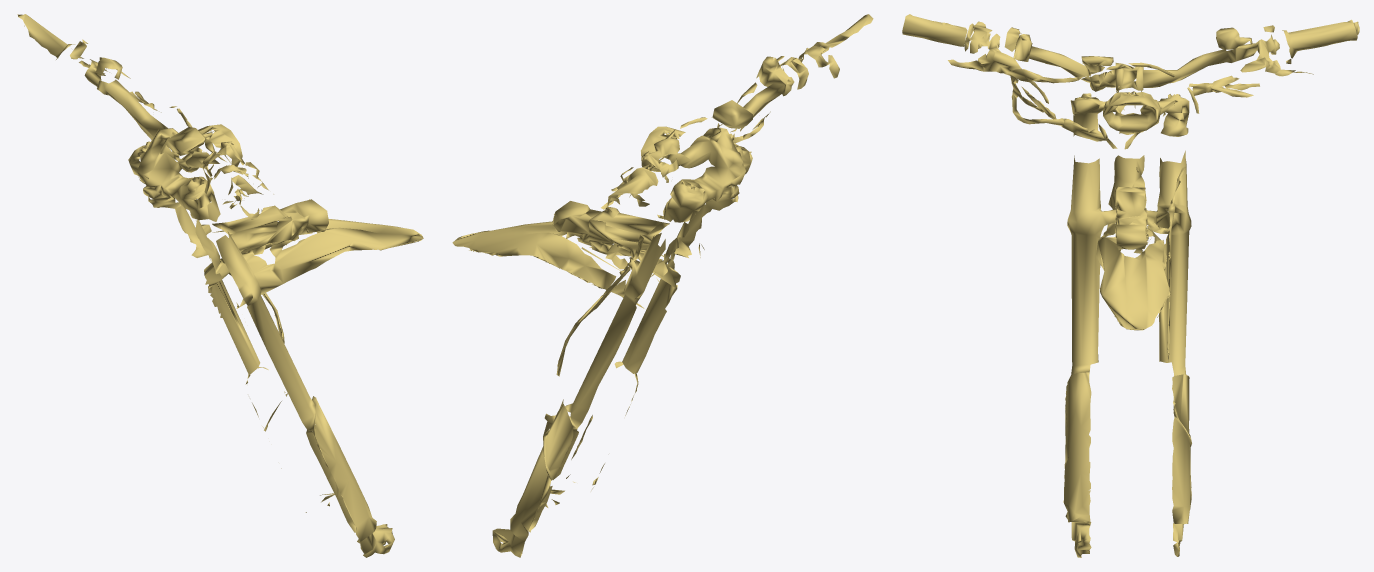
The model's file is lod_fork.glb.
The picture shows the model from 3 angles, left to right: view 1: azimuth 30°, elevation 25°; view 2: azimuth 150°, elevation 25°; view 3: azimuth 270°, elevation 25°; orthographic projection. The views are drawn at different scales.
Visible parts, largest first — view 1: fork; view 2: fork; view 3: fork.
Part boxes in pixels (bbox=[...]): fork: bbox=[17, 14, 423, 557]; fork: bbox=[452, 14, 873, 557]; fork: bbox=[902, 14, 1359, 557].
Bounding box in the file's own units: 0.5304 × 0.8256 × 0.7707.
